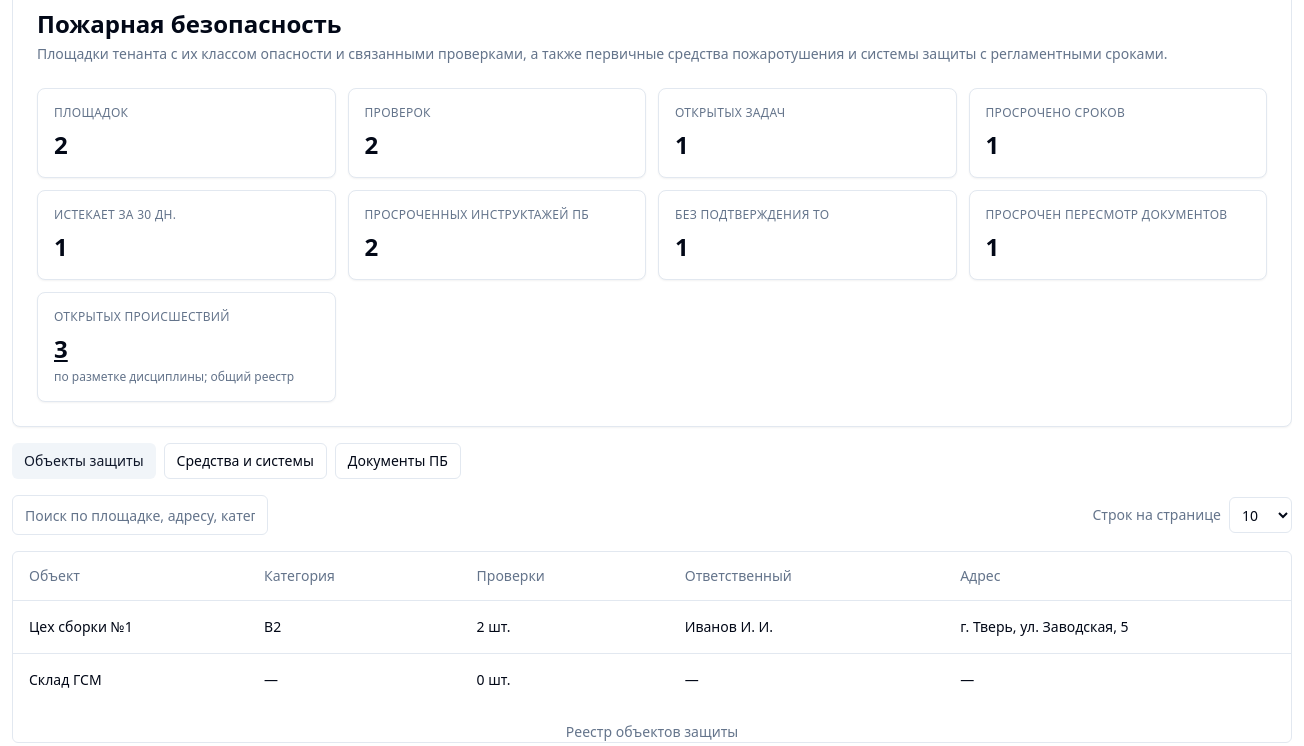
Test case: FireSafetyPage › FireSafetyPage в UX-бюджете во ВСЕХ ТРЁХ секциях
expect the text "Цех сборки №1" is shown: met, box [13,600,248,653]
Click the button "Средства и системы". click: (245, 461)
box: [164,443,327,479]
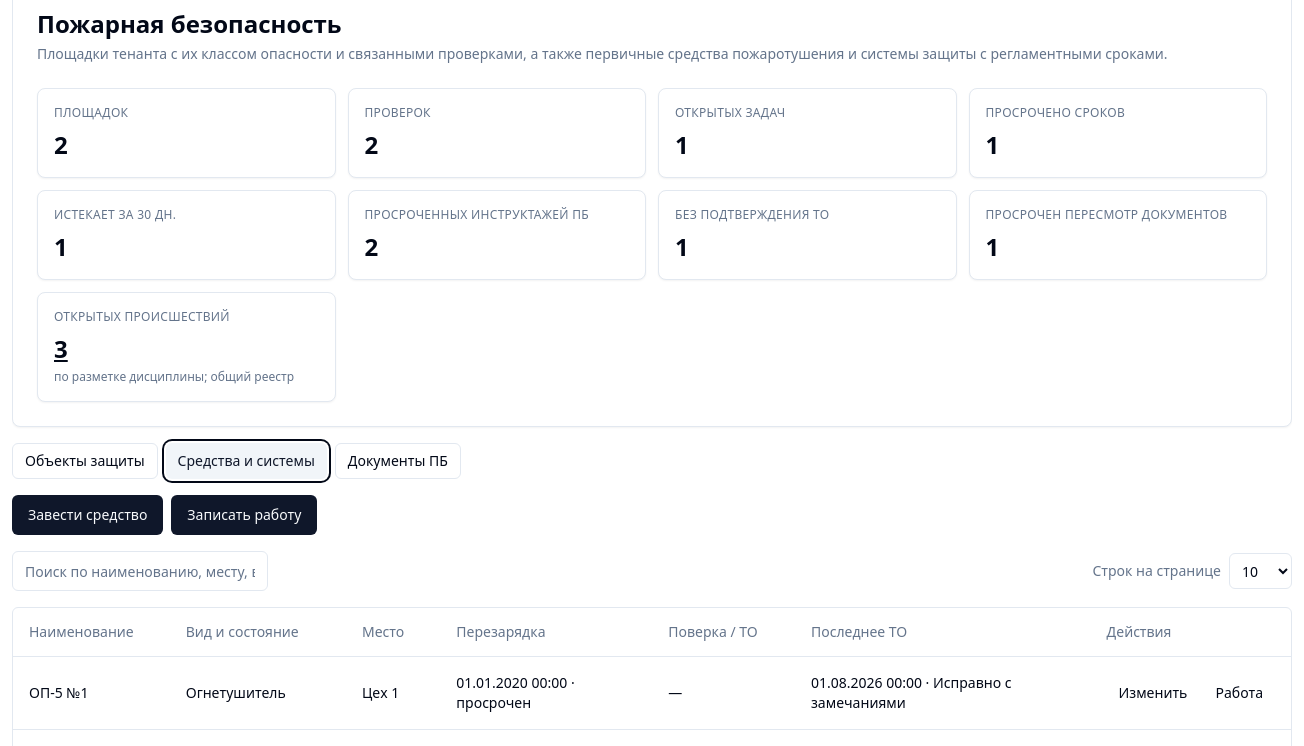
expect the text "ОП-5 №1" is shown: met, box [13,656,170,729]
Click the button "Документы ПБ". click: (398, 461)
box: [335,443,461,479]
(page scrolled)
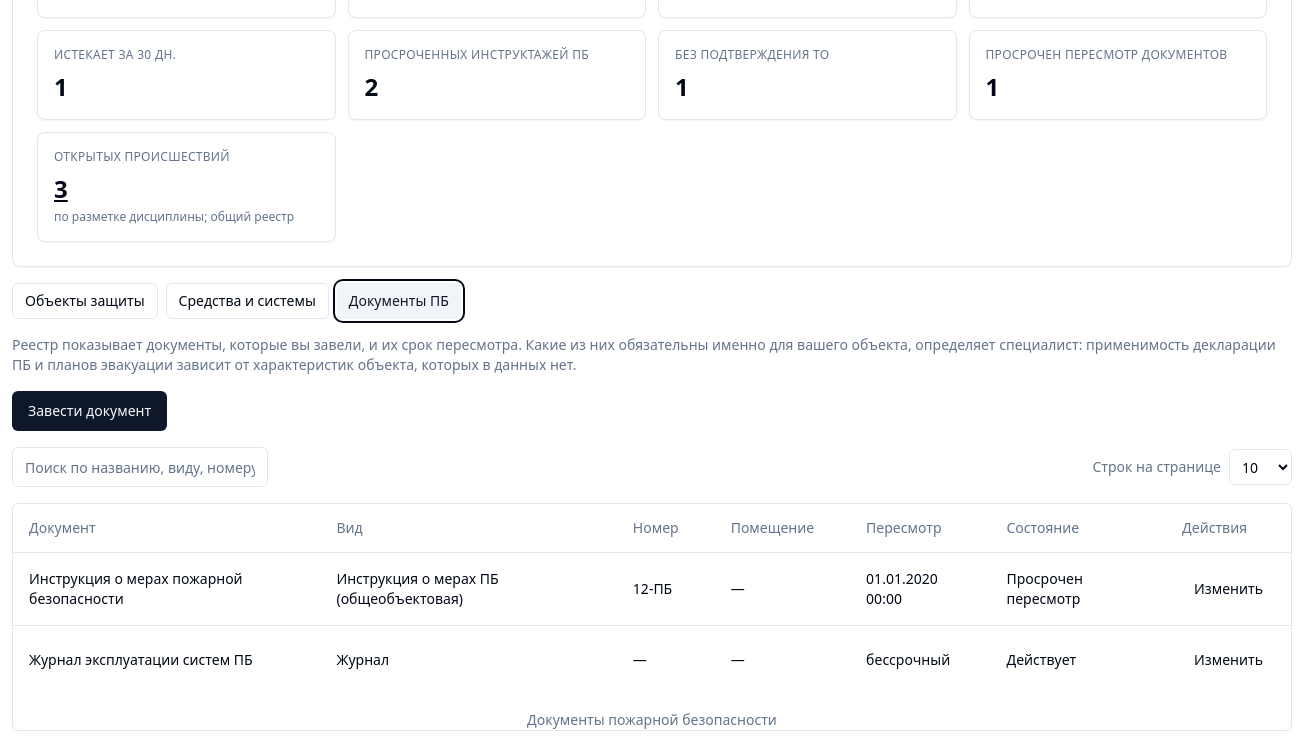
expect the text "Инструкция о мерах пожарной безопасности" is shown: met, box [13,552,320,625]
